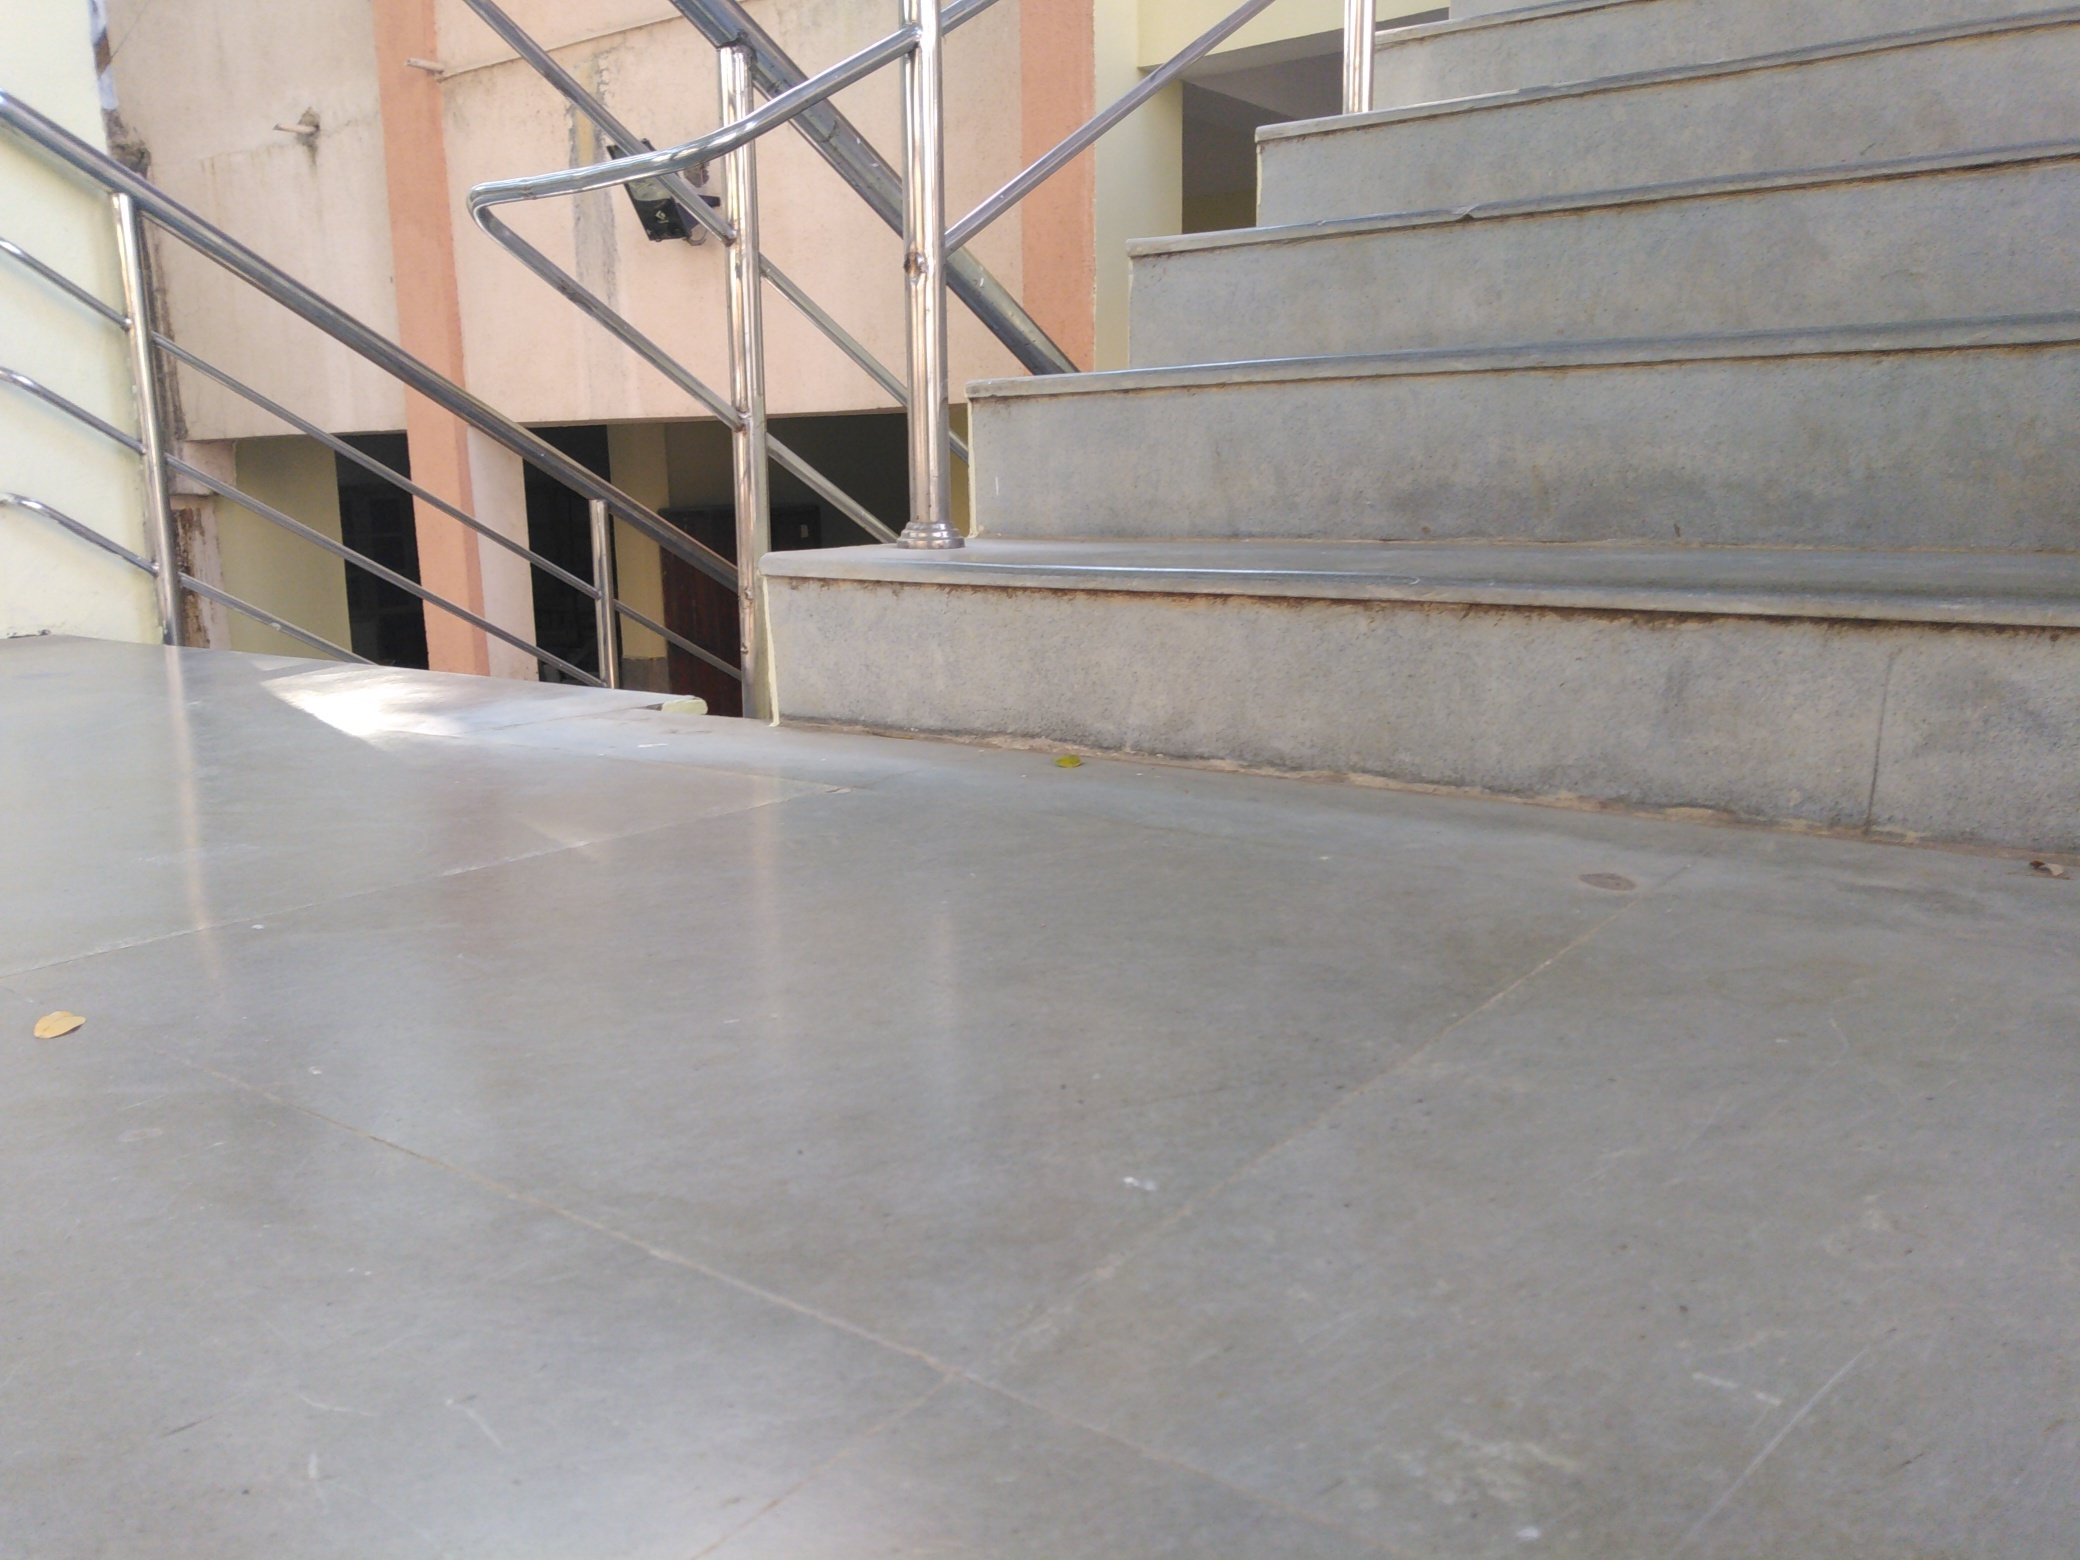stairs_up: (766, 2, 2075, 801)
